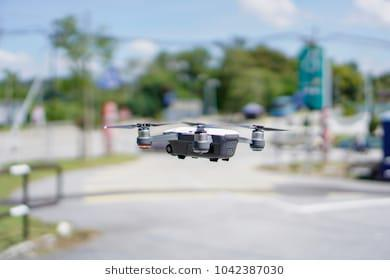drone: (103, 121, 288, 163)
